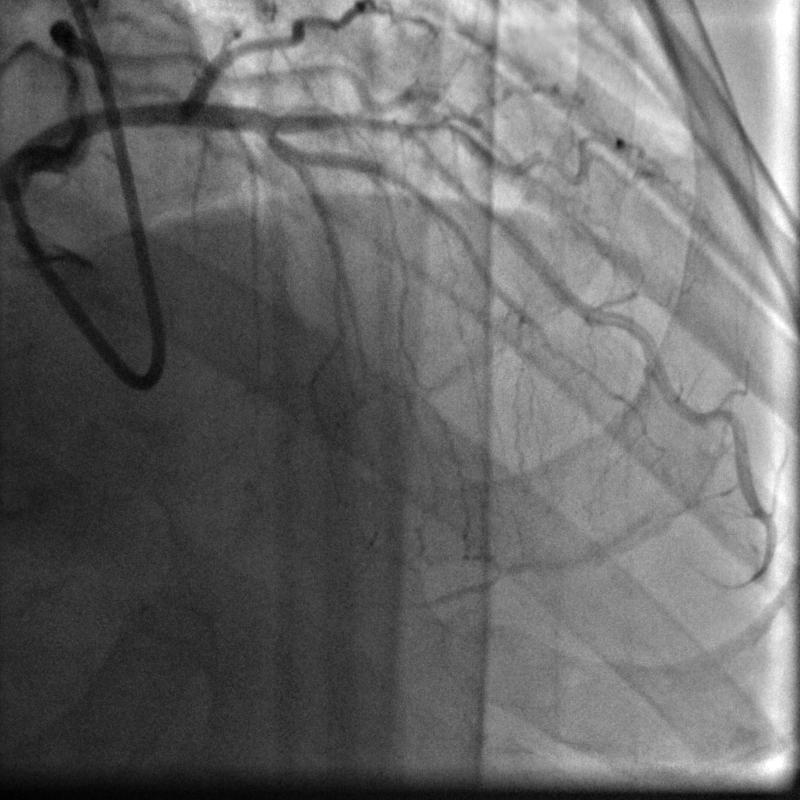Stenosis: (344, 111, 412, 140)
